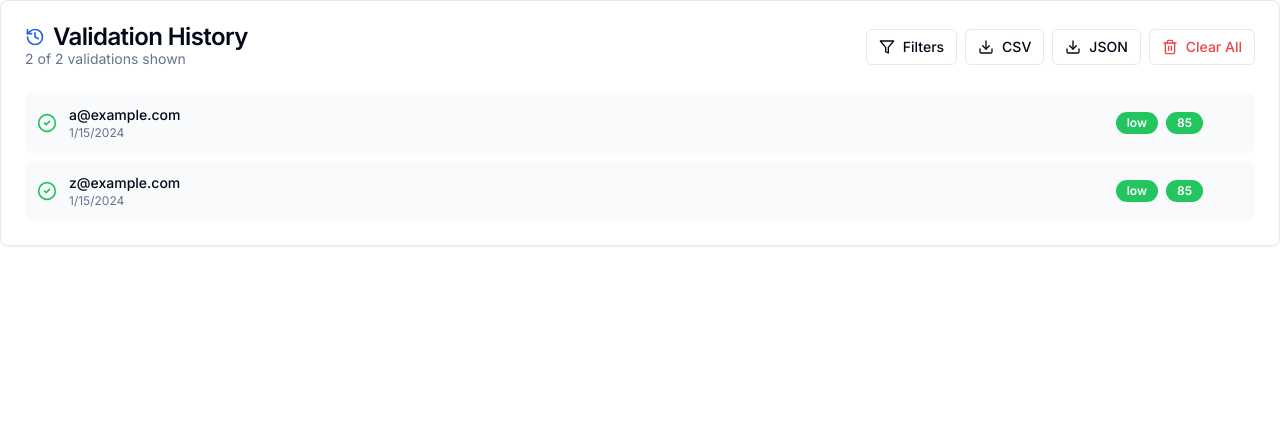
it: ValidationHistory › sorting › toggles sort order
The width and height of the screenshot is (1280, 441).
# Open filters
Click the button "Filters" at {"x": 911, "y": 47}, box [866,29,957,65]
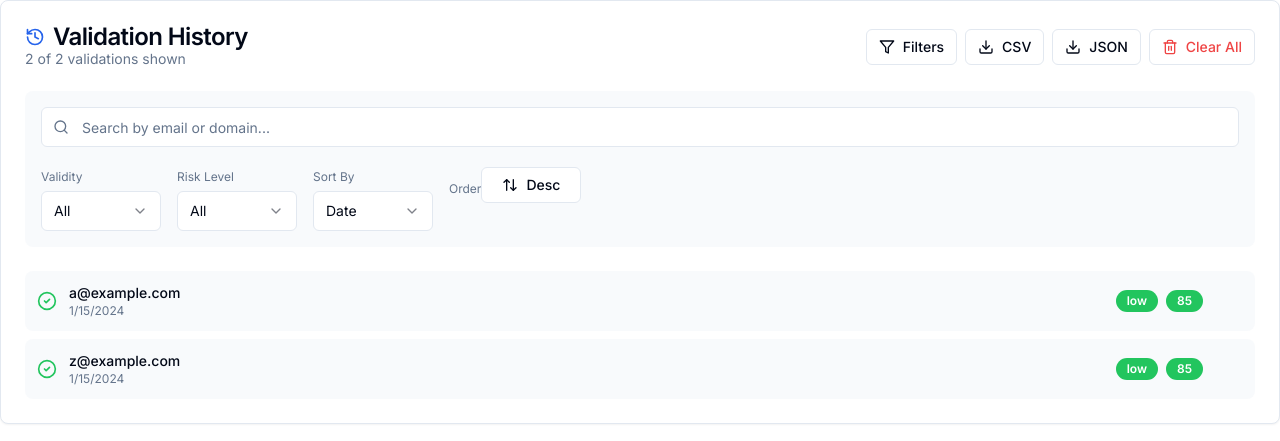
# Click the sort order button to toggle
Click the button "Desc" at {"x": 531, "y": 185}, box [481,167,581,203]
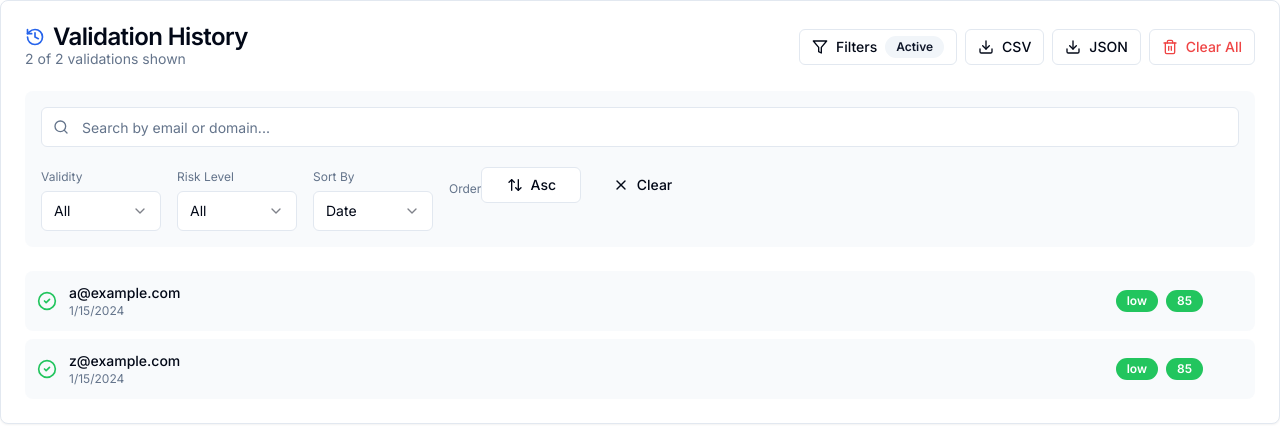
Expected: the button "Asc" is shown, [481,167,581,203]
